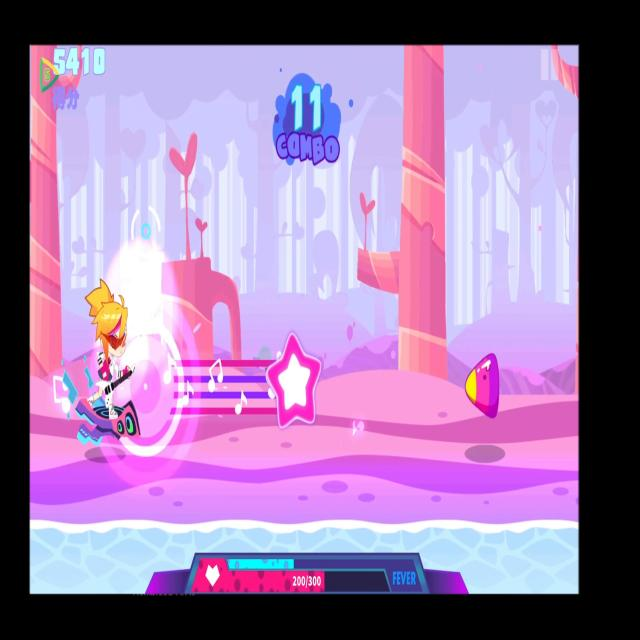hold: (124, 313, 328, 437)
jian: (458, 334, 511, 452)
